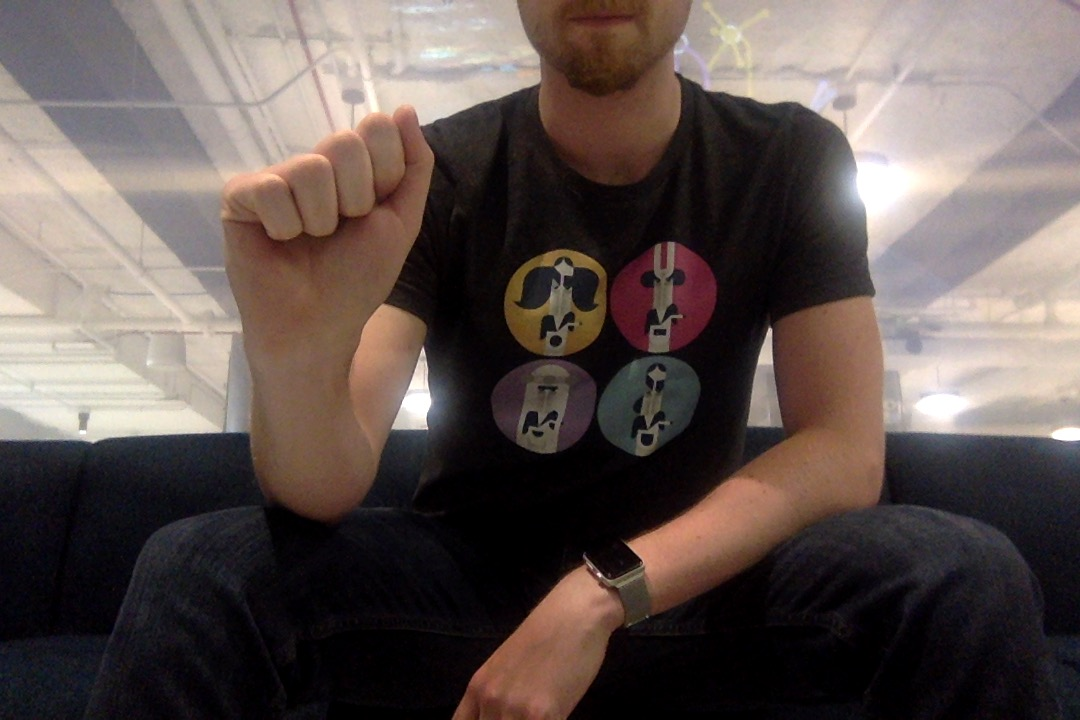a: (214, 96, 442, 341)
